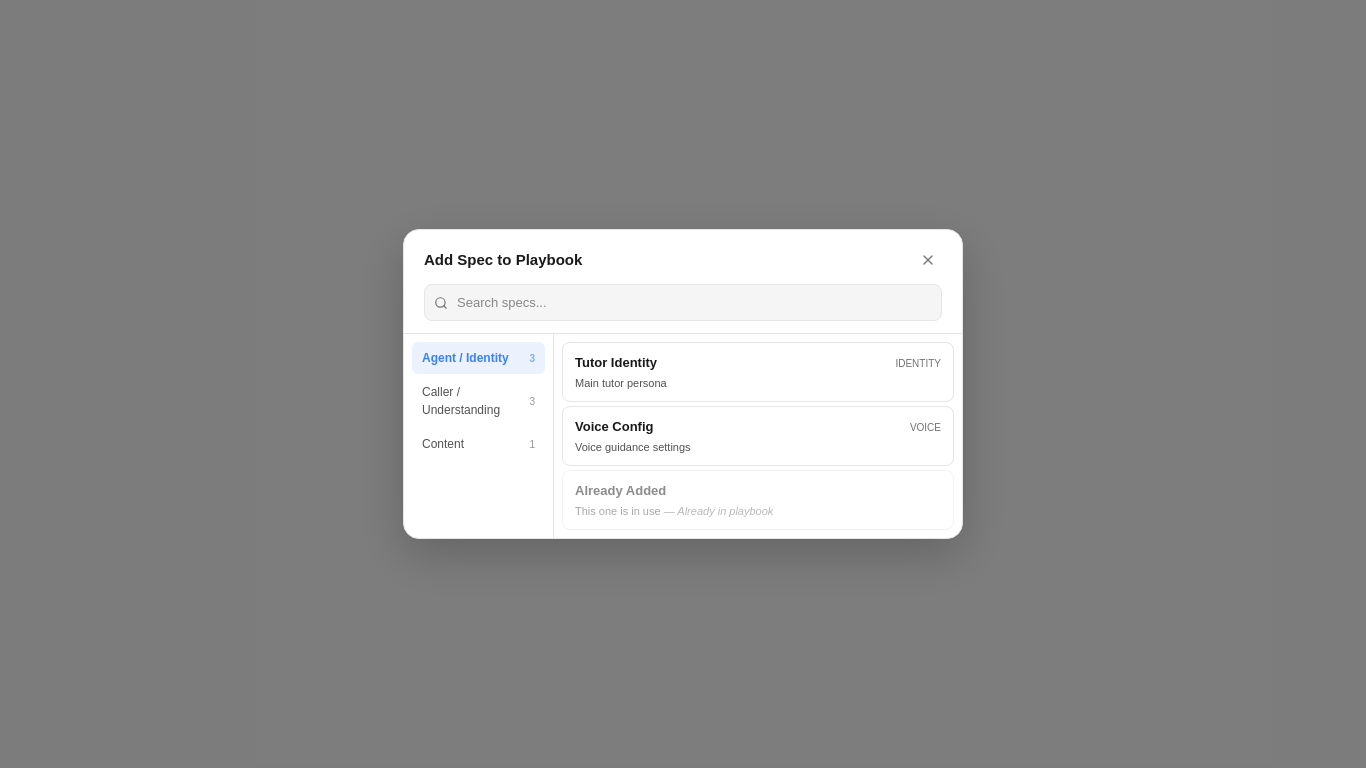
Scenario: TypePickerDialog category switching › switches to caller category on click
What coordinates should you click on to do the following:
click the button with test id "picker-cat-caller"
I would click on:
 (478, 401)
Its box is [412,376,545,426].
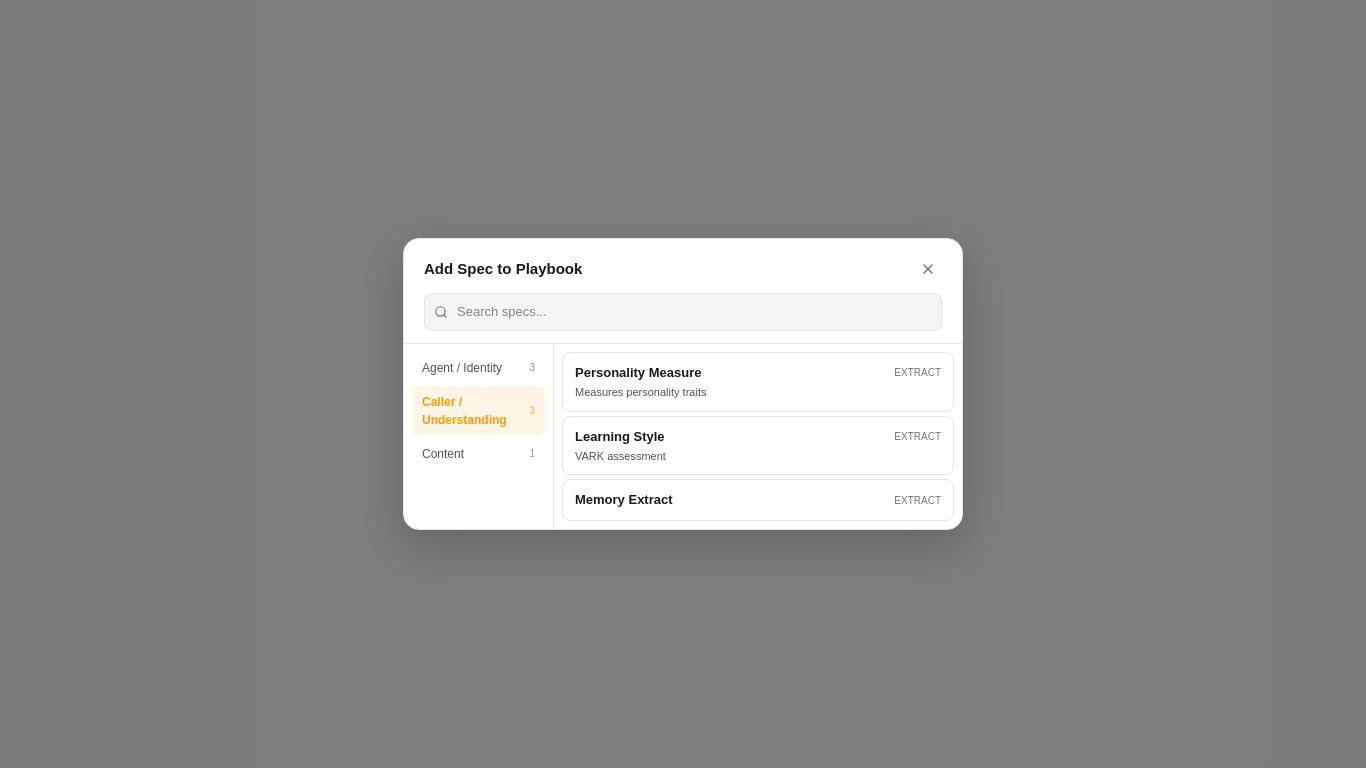
Now the text "Personality Measure" is shown, box [575,363,702,382]
Now the text "Learning Style" is shown, box [575,426,665,446]
Now the text "Memory Extract" is shown, box [575,490,672,510]
